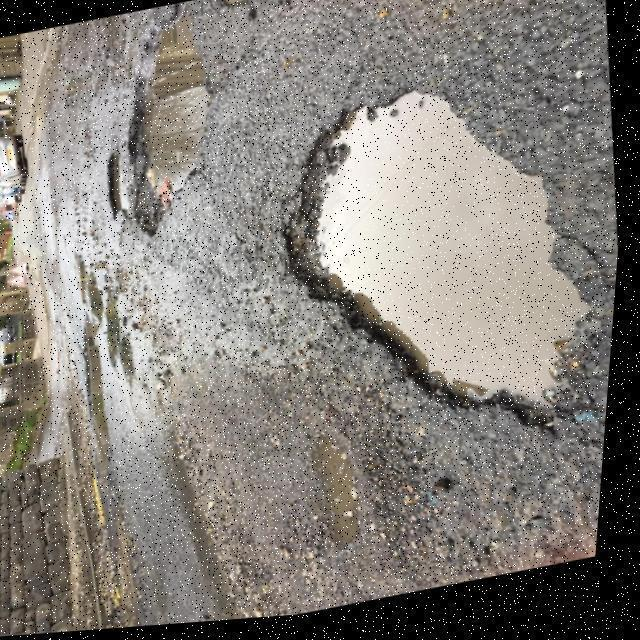Pothole: (281, 85, 607, 444), (105, 3, 217, 245)
